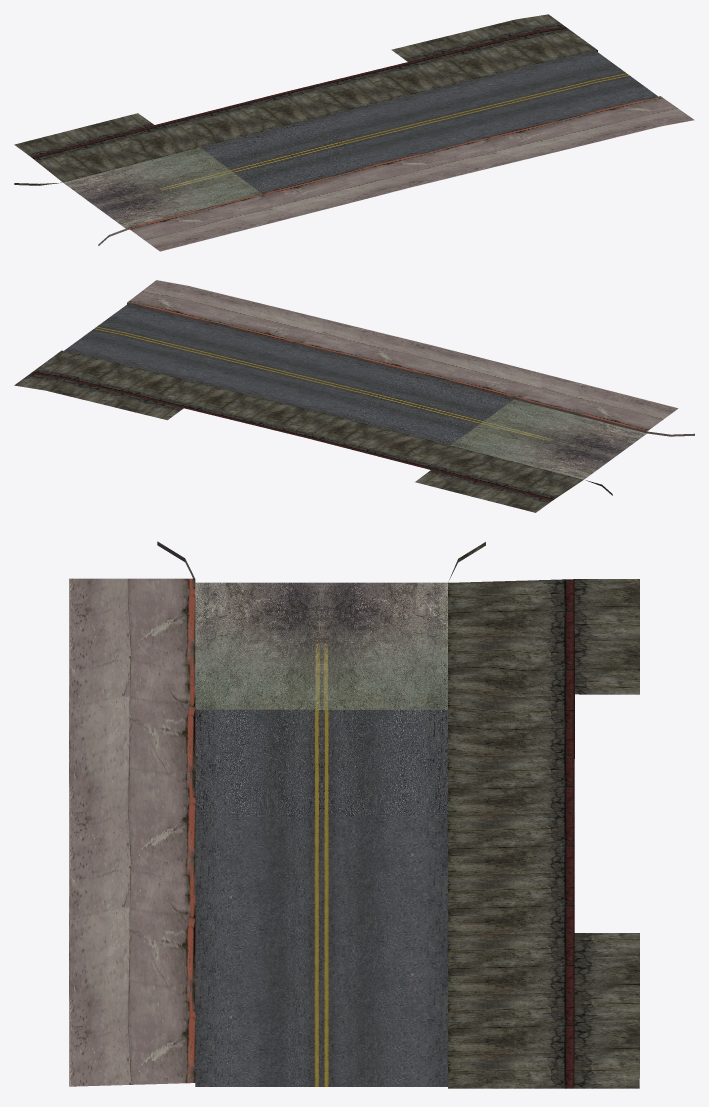
File: lae2_roads25.obj
The picture shows the model from 3 angles, top to bottom: view 1: azimuth 30°, elevation 25°; view 2: azimuth 150°, elevation 25°; view 3: azimuth 270°, elevation 25°; orthographic projection. The views are drawn at different scales.
Visible parts, largest first — view 1: Lae2_roads25; view 2: Lae2_roads25; view 3: Lae2_roads25.
Boxes of the visible parts, x1=… form: Lae2_roads25: x1=14, y1=14, x2=694, y2=251; Lae2_roads25: x1=14, y1=280, x2=694, y2=512; Lae2_roads25: x1=69, y1=541, x2=639, y2=1088.
Size of the model in its own units: 51.21 by 0.4365 by 22.6.
